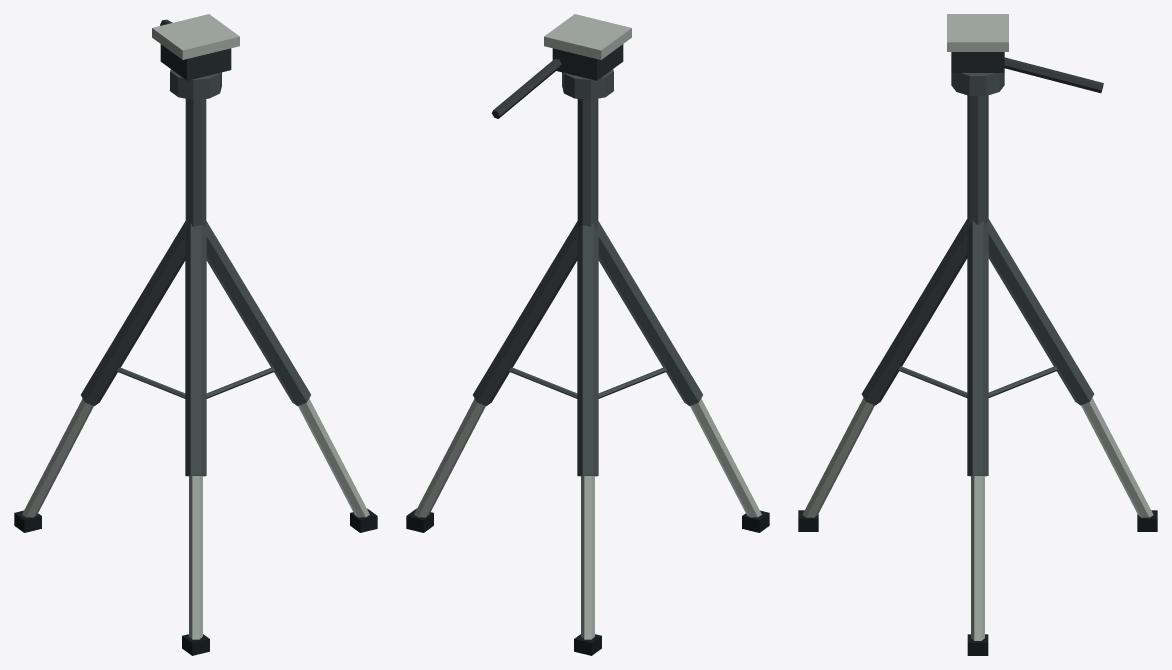
Rendered from blender_tripod_1.glb.
3 renders of one model, left to right at view 1: azimuth 30°, elevation 25°; view 2: azimuth 150°, elevation 25°; view 3: azimuth 270°, elevation 25°, orthographic.
Parts seen in each view (by area): view 1: blender_tripod_1; view 2: blender_tripod_1; view 3: blender_tripod_1.
Boxes of the visible parts, left/top/right/bottom form: blender_tripod_1: left=14, top=14, right=377, bottom=655; blender_tripod_1: left=406, top=14, right=769, bottom=655; blender_tripod_1: left=798, top=14, right=1157, bottom=655.
Bounding box in the file's own units: 0.353 × 0.671 × 0.4041.
1 material, 1 textured.
